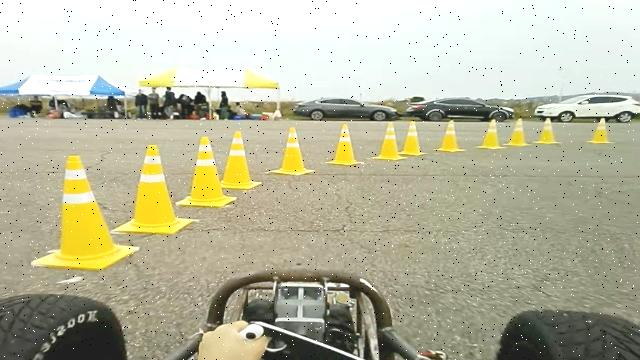yellow cone: (31, 154, 140, 270), (113, 144, 196, 234), (176, 135, 237, 207), (220, 130, 262, 190), (266, 127, 316, 175), (325, 123, 365, 166), (372, 121, 407, 160), (398, 120, 428, 156), (434, 119, 466, 152), (476, 118, 506, 149), (503, 117, 532, 146), (533, 118, 562, 144), (586, 118, 614, 144)
